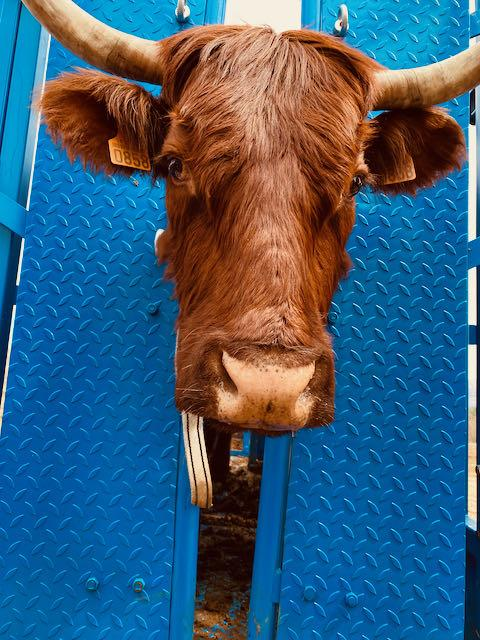muzzles: (170, 327, 348, 432)
